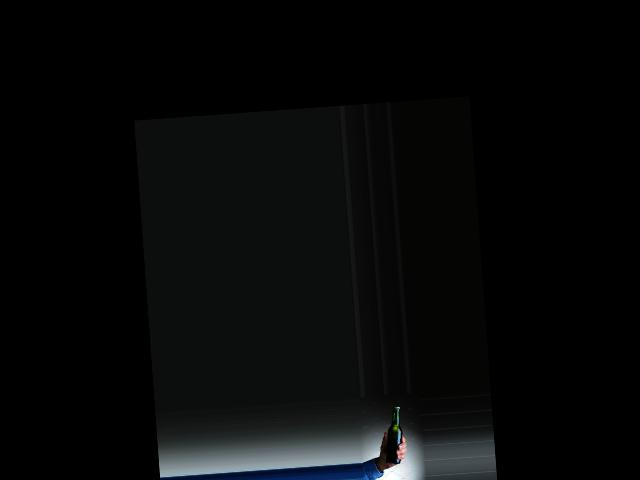beer: (381, 406, 404, 463)
